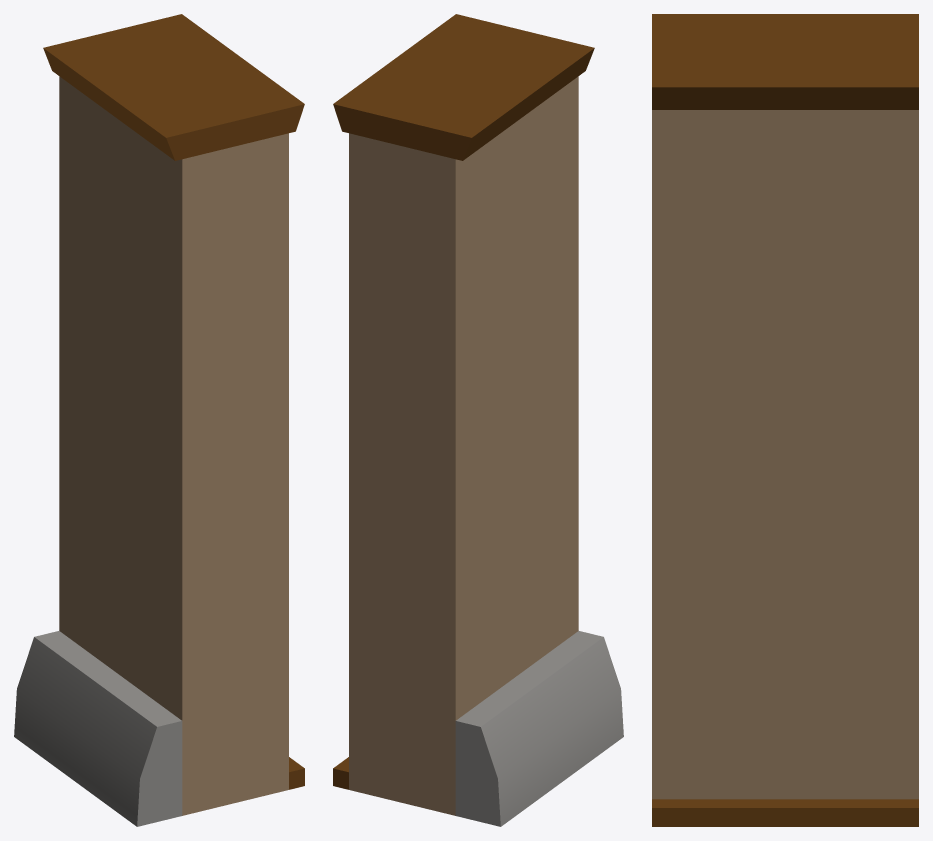
File: SM_Wall_Short.fbx
3 renders of one model, left to right at view 1: azimuth 30°, elevation 25°; view 2: azimuth 150°, elevation 25°; view 3: azimuth 270°, elevation 25°, orthographic. The views are drawn at different scales.
Parts seen in each view (by area): view 1: SM_Wall_Short; view 2: SM_Wall_Short; view 3: SM_Wall_Short.
Part boxes in pixels (x1,y1,x2,y2): SM_Wall_Short: (14, 14, 304, 826); SM_Wall_Short: (333, 14, 623, 826); SM_Wall_Short: (652, 14, 918, 826).
Bounding box in the file's own units: 78.71 × 306 × 100.
